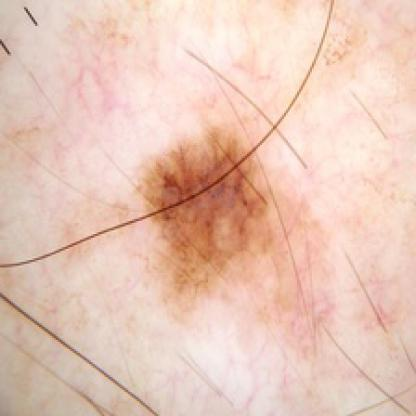malignant: (137, 124, 264, 268)
